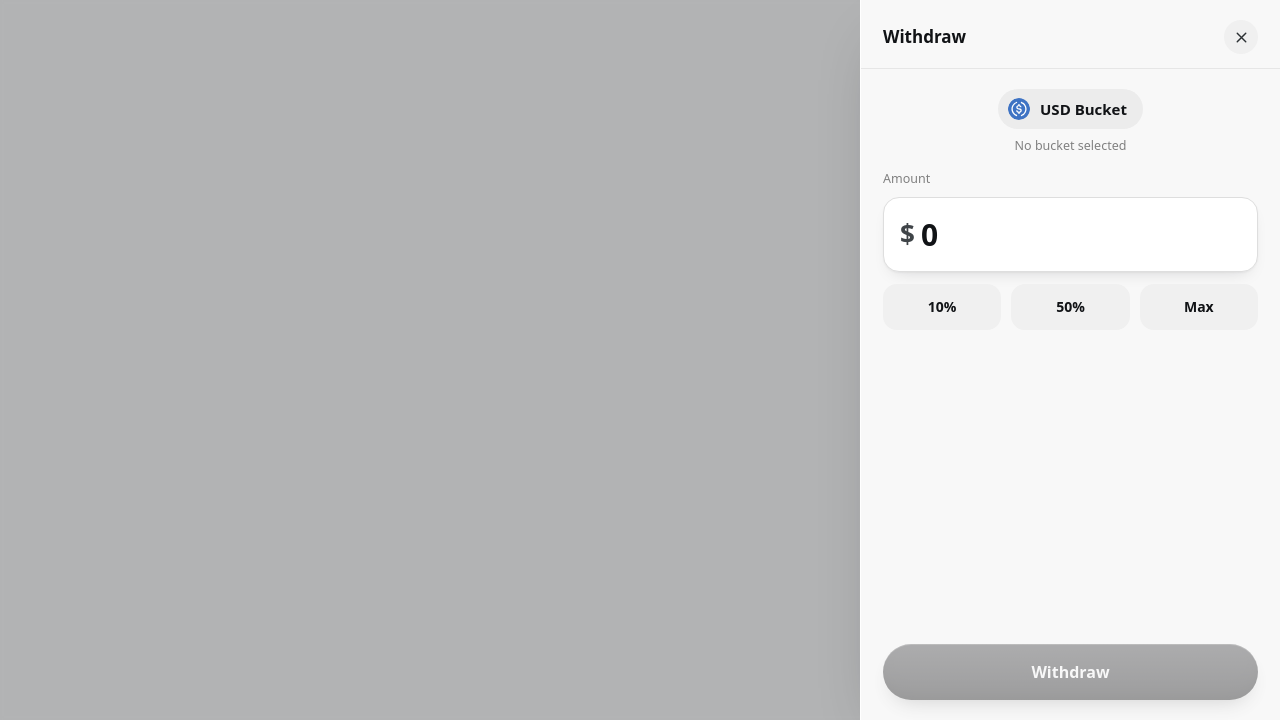
Test: a rejected withdrawal keeps the drawer open, toasts nothing, and leaves the bucket intact
Check: the button "USD Bucket" is shown, box top-left (998, 89), bottom-right (1143, 129)
Step 1. Replace the text in the field named "Amount" with "10" → (1081, 234), box top-left (921, 212), bottom-right (1241, 256)
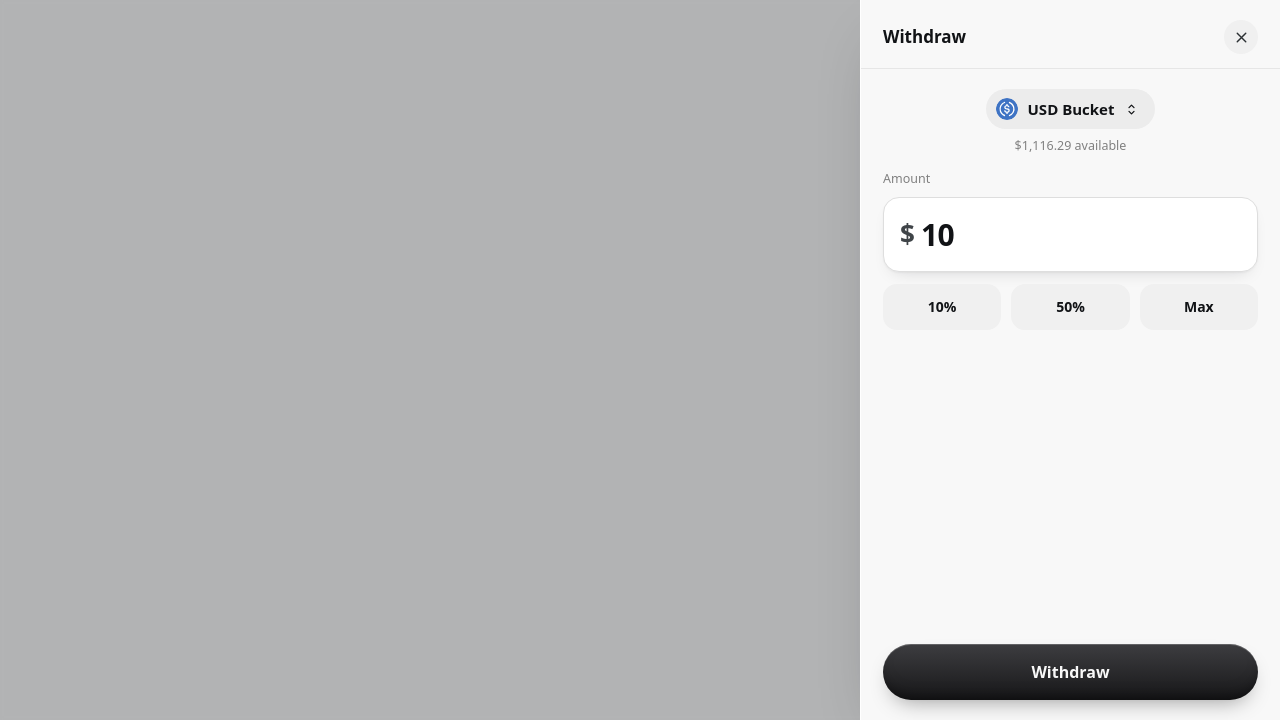
Step 2. Click the button "Withdraw" → (1070, 672), box top-left (883, 644), bottom-right (1258, 700)
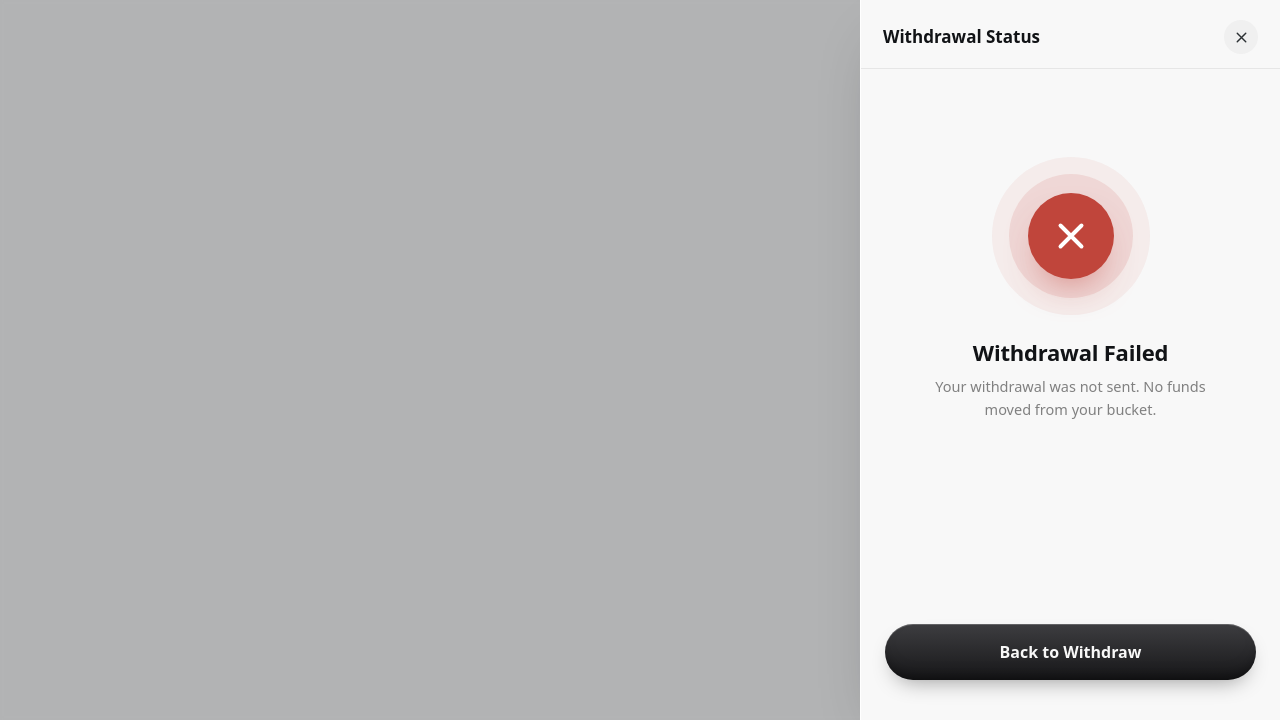
Check: the heading "Withdrawal Failed" is shown, box top-left (973, 339), bottom-right (1168, 366)
